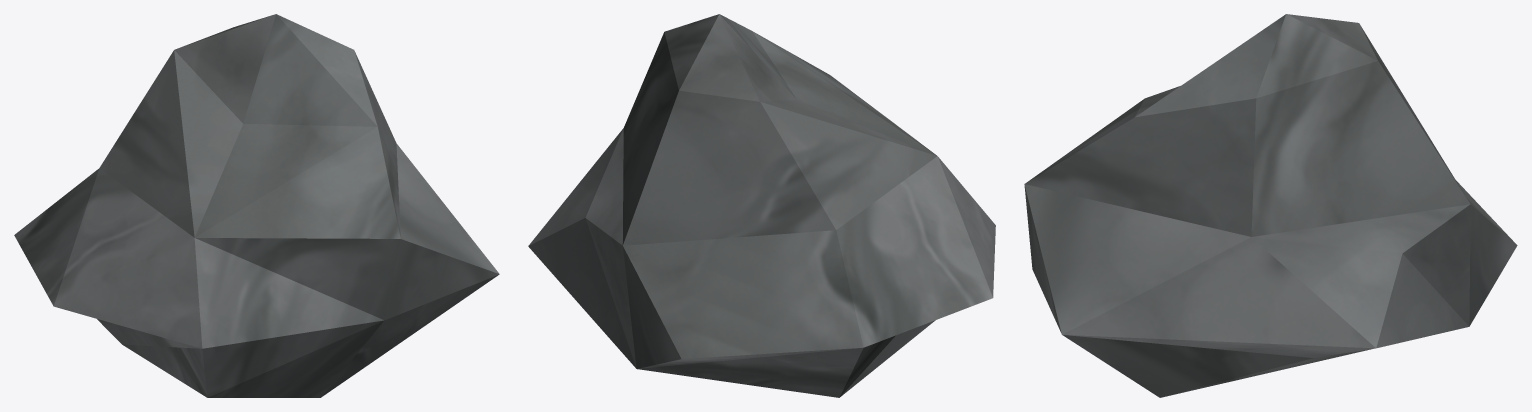
File: Rock1.obj
3 views of the same model, side by side, from view 1: azimuth 30°, elevation 25°; view 2: azimuth 150°, elevation 25°; view 3: azimuth 270°, elevation 25° (orthographic). The views are drawn at different scales.
Visible parts, largest first — view 1: pSphere1; view 2: pSphere1; view 3: pSphere1.
Boxes of the visible parts, left/top/right/bottom form: pSphere1: left=14, top=14, right=499, bottom=397; pSphere1: left=528, top=14, right=995, bottom=397; pSphere1: left=1024, top=14, right=1517, bottom=397.
Bounding box in the file's own units: 2.77 × 2.37 × 2.72.
